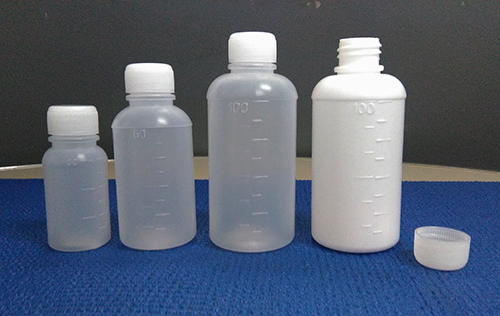medicinejar: (309, 28, 419, 261), (202, 30, 306, 252), (109, 57, 195, 264), (41, 102, 110, 255)
